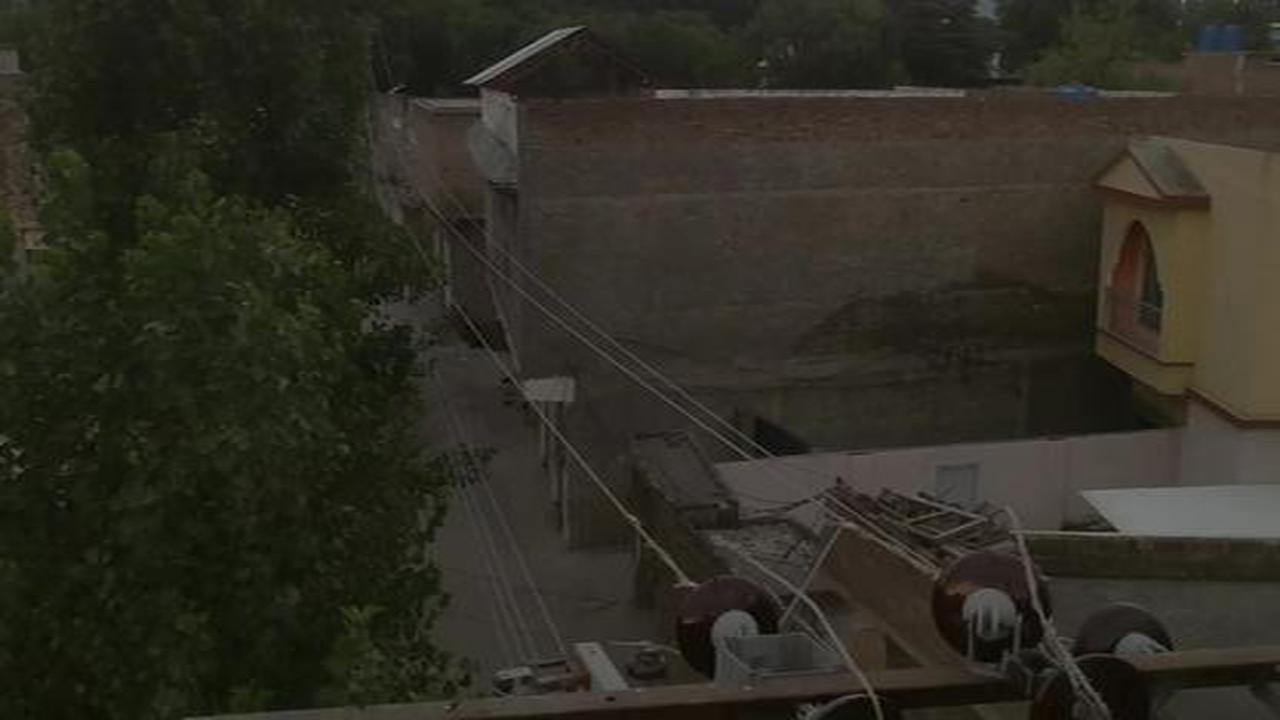insulator_disc: (928, 545, 1059, 664), (671, 576, 786, 669), (1071, 599, 1176, 695)
